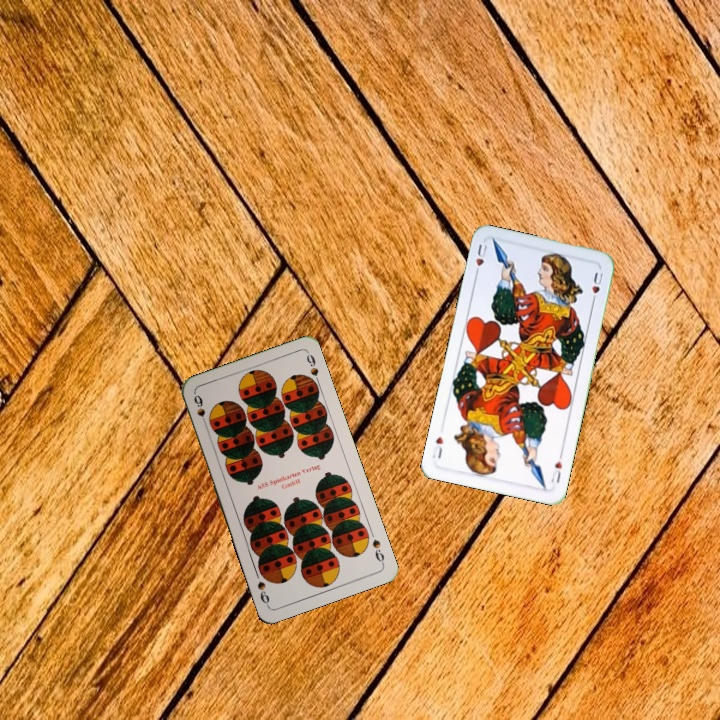HU: (471, 240, 490, 279), (547, 449, 565, 485)
S9: (190, 391, 210, 430), (368, 535, 387, 567)
